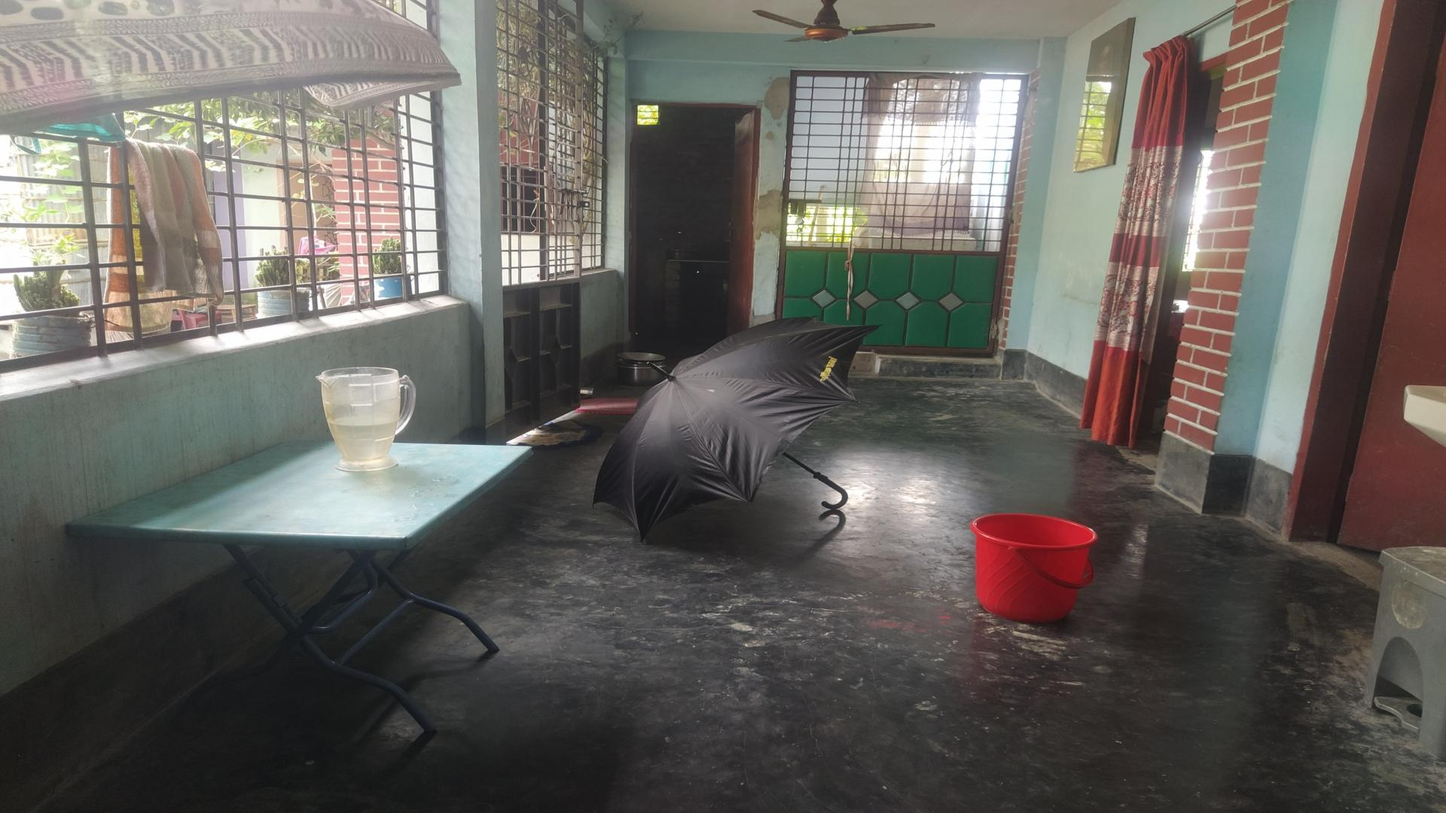Bucket: (973, 513, 1096, 621)
Door: (788, 70, 1001, 354), (626, 98, 749, 364)
Jug: (318, 365, 402, 471)
Table: (63, 448, 531, 731)
Umbrella: (593, 324, 879, 528)
